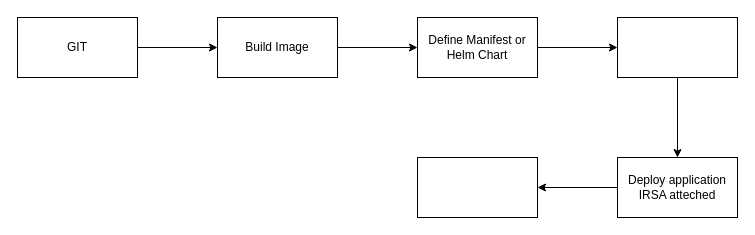
The diagram is 755 pixels wide and 235 high, and some of its shapes have lost their labels. The centre of each missing label's shape, as x and y in pixels:
Create IRSA: point 677,47
Test: point 477,187
